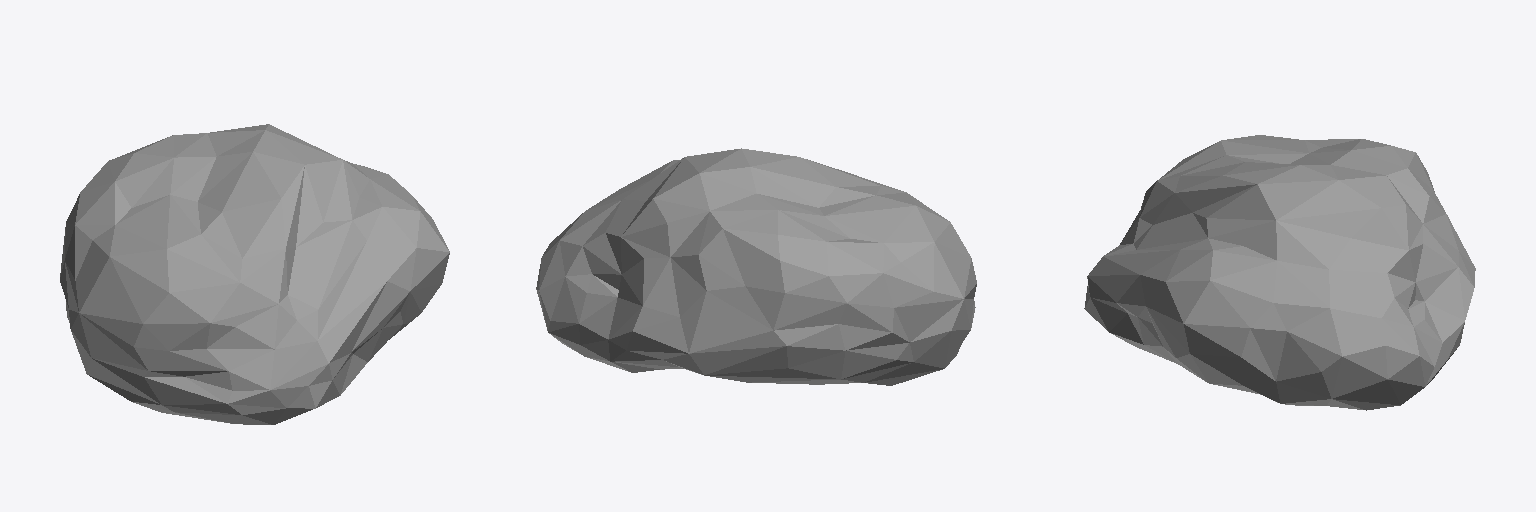
3 renders of one model, left to right at view 1: azimuth 30°, elevation 25°; view 2: azimuth 150°, elevation 25°; view 3: azimuth 270°, elevation 25°, orthographic.
Visible parts, largest first — view 1: rock.003_rock.006; view 2: rock.003_rock.006; view 3: rock.003_rock.006.
Boxes of the visible parts, <box> form: rock.003_rock.006: <box>60,124,449,424</box>; rock.003_rock.006: <box>536,148,976,385</box>; rock.003_rock.006: <box>1084,135,1475,410</box>.
Size of the model in its own units: 1.95 by 0.9504 by 1.77.